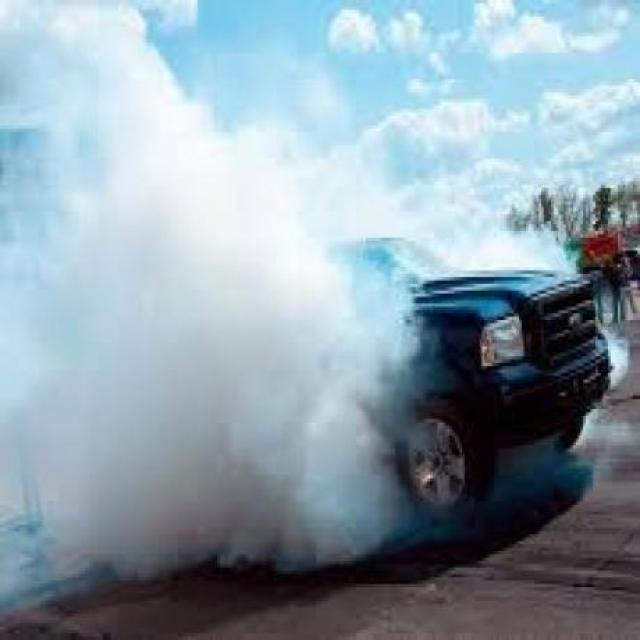Smoke: (28, 112, 418, 564)
